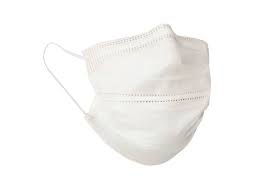mask: (38, 26, 225, 173)
